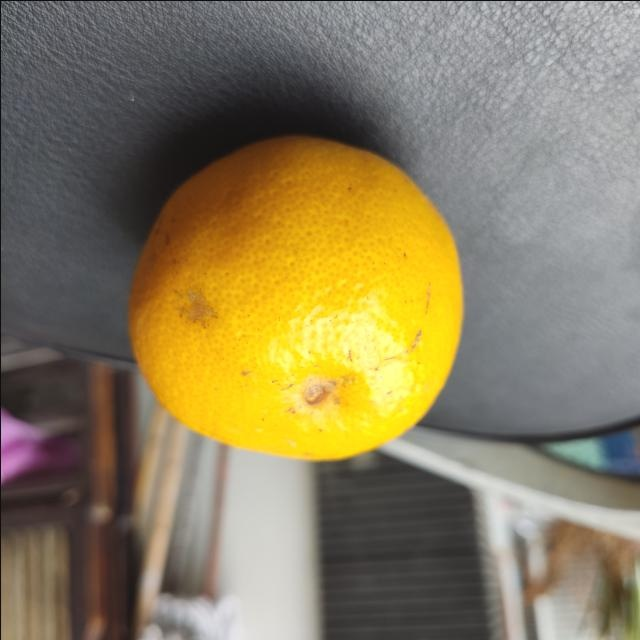agrume: (122, 132, 464, 464)
